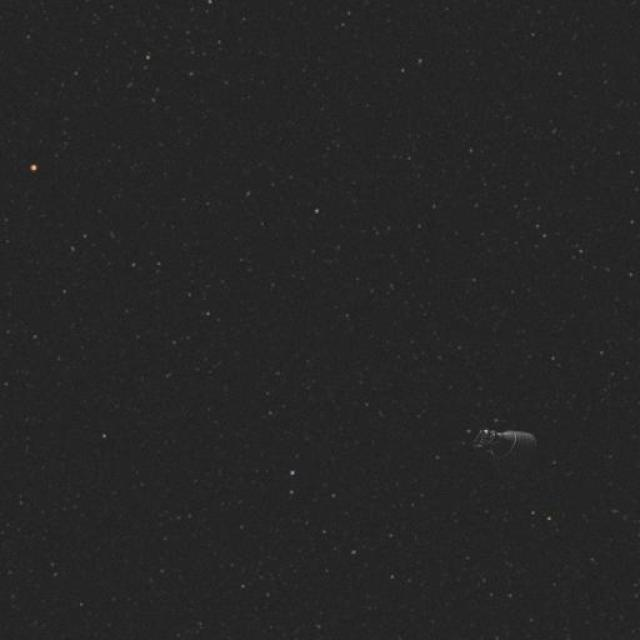debris: (462, 417, 544, 474)
